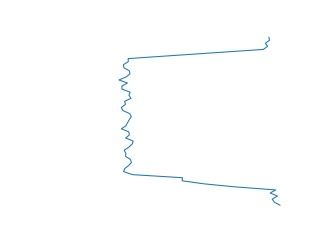distributaryChannelFill: (116, 35, 285, 207)
